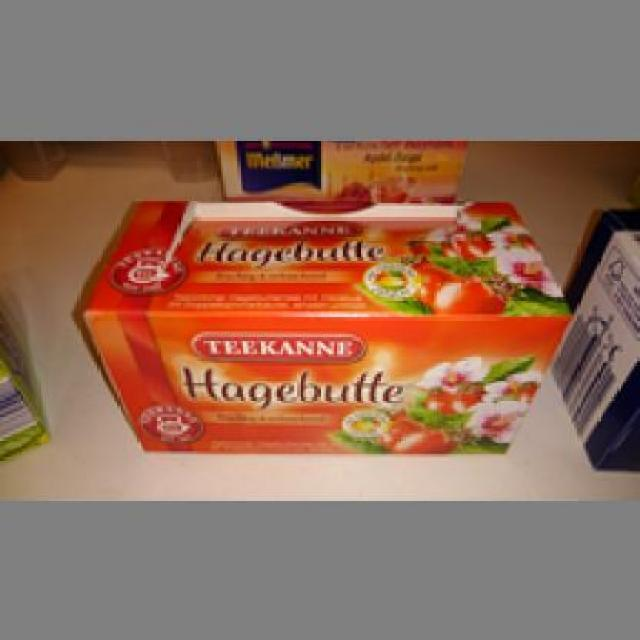Tea: (76, 194, 570, 452)
